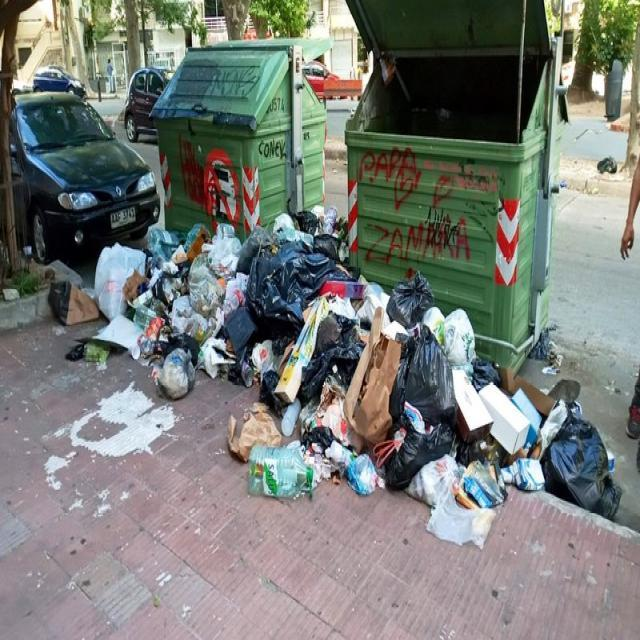garbage: (55, 196, 619, 554)
